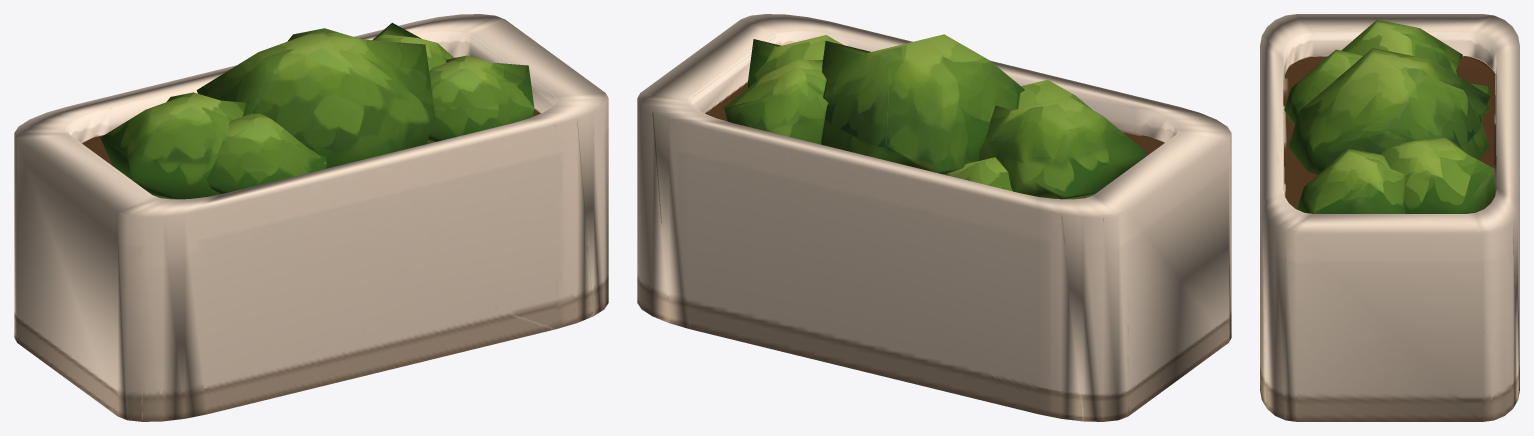
The model's file is Planter.fbx.
The picture shows the model from 3 angles, left to right: view 1: azimuth 30°, elevation 25°; view 2: azimuth 150°, elevation 25°; view 3: azimuth 270°, elevation 25°; orthographic projection. The views are drawn at different scales.
Parts seen in each view (by area): view 1: Meshy_Planter_Mesh_0.003; view 2: Meshy_Planter_Mesh_0.003; view 3: Meshy_Planter_Mesh_0.003.
Part boxes in pixels (left/top/right/bottom): Meshy_Planter_Mesh_0.003: left=14, top=14, right=608, bottom=421; Meshy_Planter_Mesh_0.003: left=637, top=14, right=1231, bottom=421; Meshy_Planter_Mesh_0.003: left=1260, top=14, right=1519, bottom=421.
Size of the model in its own units: 137 by 74.81 by 68.46.
1 material, 1 textured.
